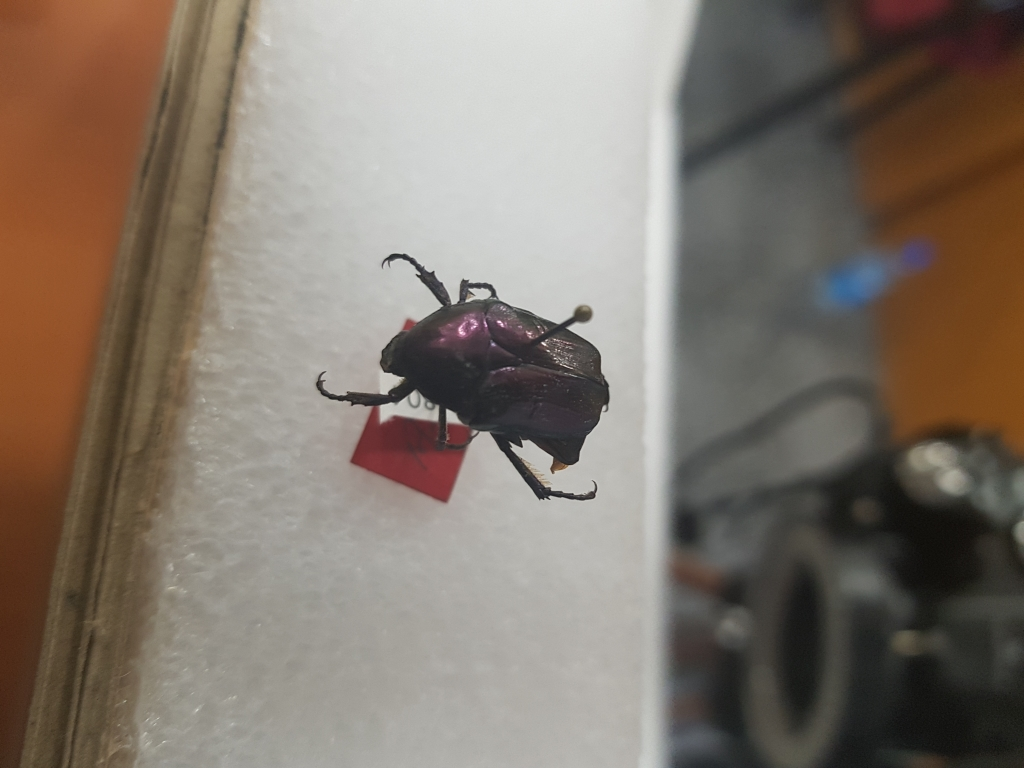Protaetia_besucheti: (303, 243, 618, 523)
